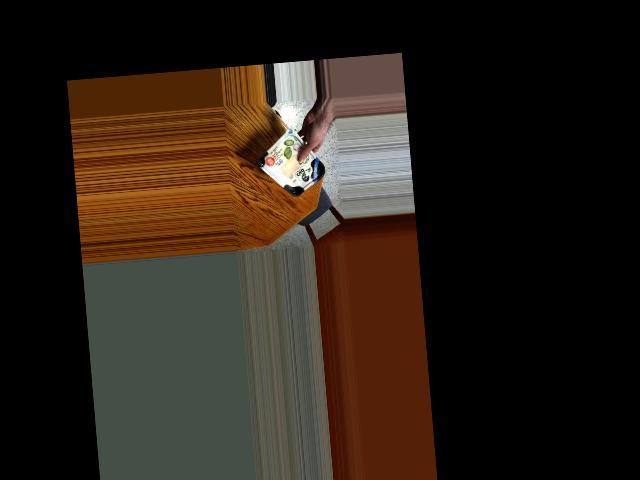cheese: (262, 137, 322, 199)
